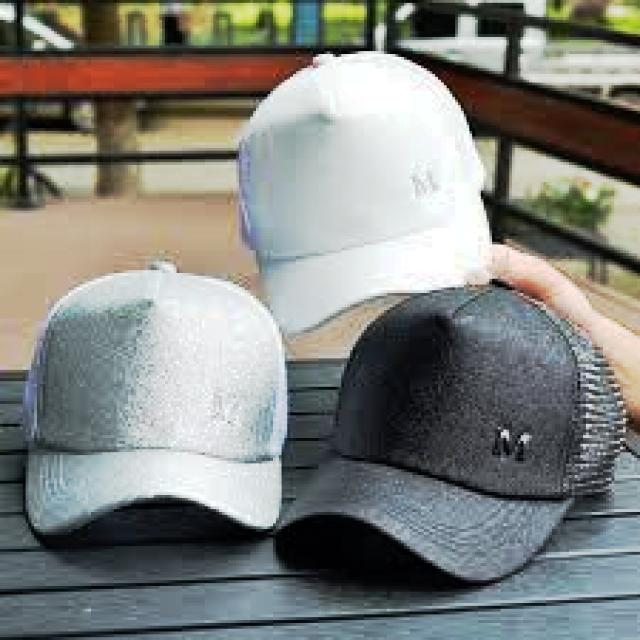TOPI: (276, 279, 629, 586), (228, 42, 492, 336), (17, 259, 285, 532)
